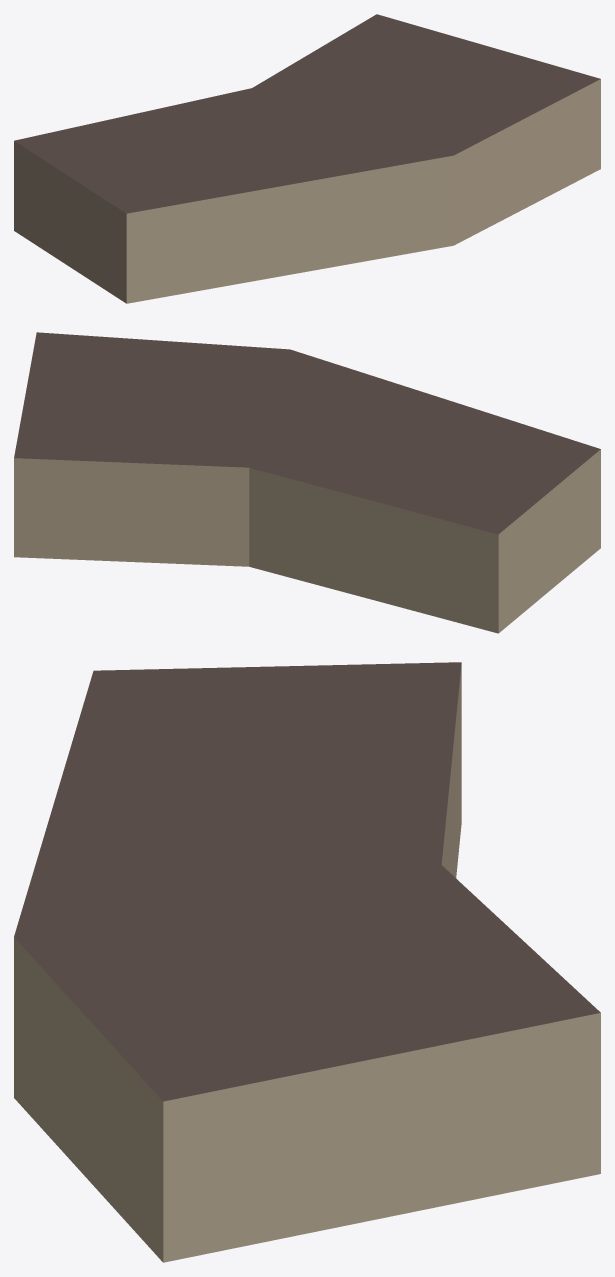
The picture shows the model from 3 angles, top to bottom: view 1: azimuth 30°, elevation 25°; view 2: azimuth 150°, elevation 25°; view 3: azimuth 270°, elevation 25°; orthographic projection. The views are drawn at different scales.
Visible parts, largest first — view 1: HP-w948570804; view 2: HP-w948570804; view 3: HP-w948570804.
Part boxes in pixels (box(x1,y1,x2,y2)): HP-w948570804: box(14, 14, 600, 303); HP-w948570804: box(14, 332, 600, 633); HP-w948570804: box(14, 662, 600, 1262).
Size of the model in its own units: 35.07 by 6 by 19.8.
